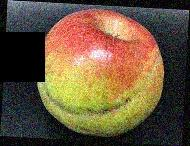rotten apple: (32, 8, 167, 135)
